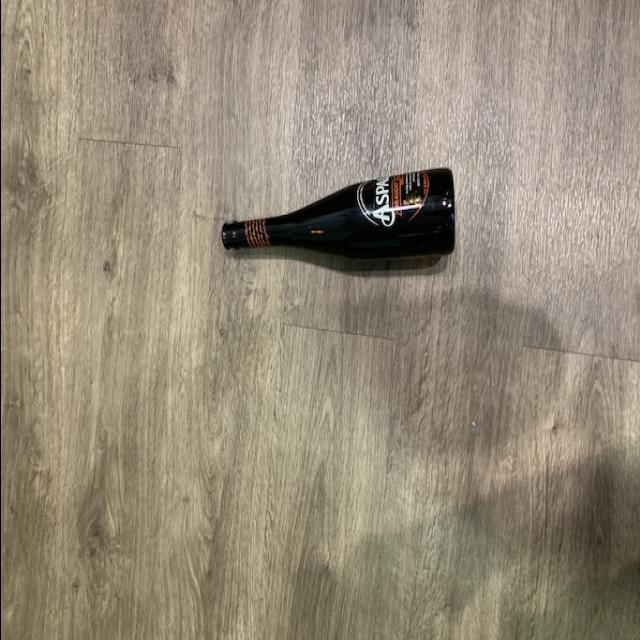Glass Bottle: (218, 162, 456, 272)
